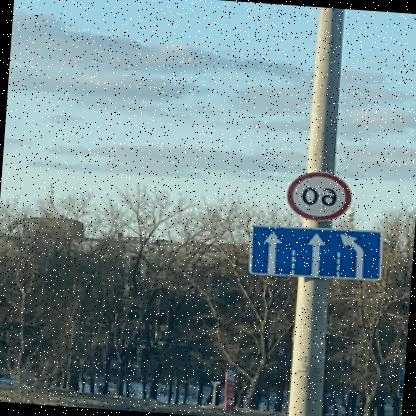speedlimit: (284, 168, 356, 223)
